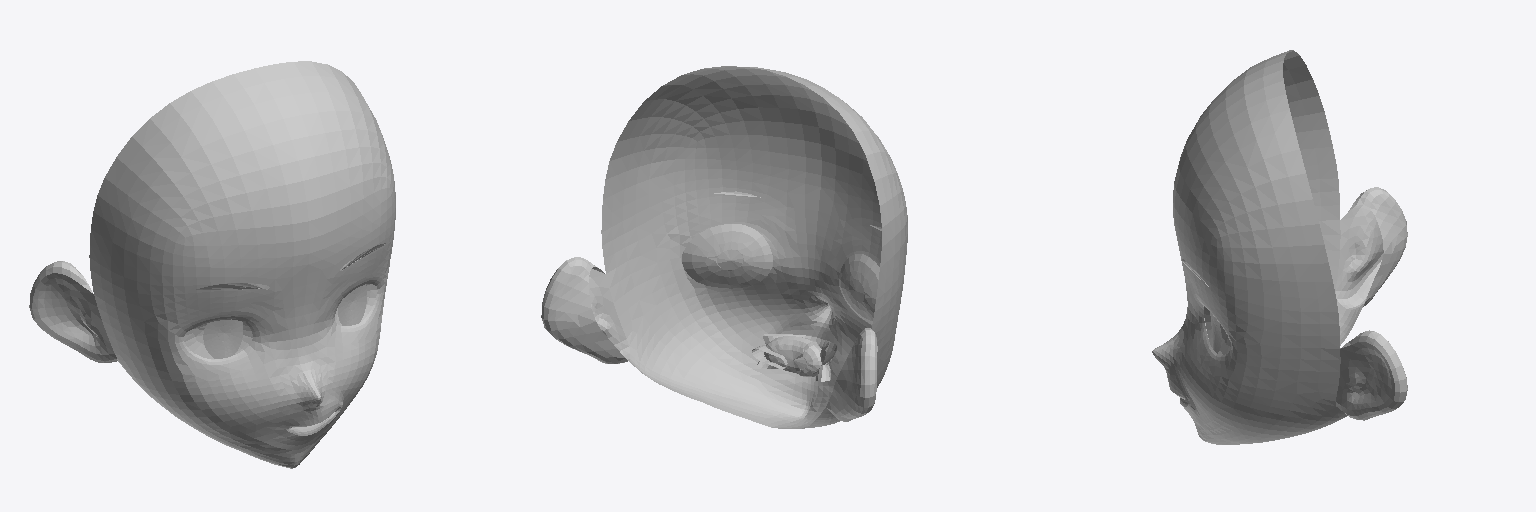
File: mouthLeft.obj
3 views of the same model, side by side, from view 1: azimuth 30°, elevation 25°; view 2: azimuth 150°, elevation 25°; view 3: azimuth 270°, elevation 25° (orthographic).
Visible parts, largest first — view 1: Face; view 2: Face; view 3: Face.
Part boxes in pixels (bbox=[...]): Face: bbox=[29, 61, 395, 468]; Face: bbox=[541, 66, 907, 428]; Face: bbox=[1152, 50, 1407, 444].
Bounding box in the file's own units: 0.2176 × 0.2333 × 0.1449.